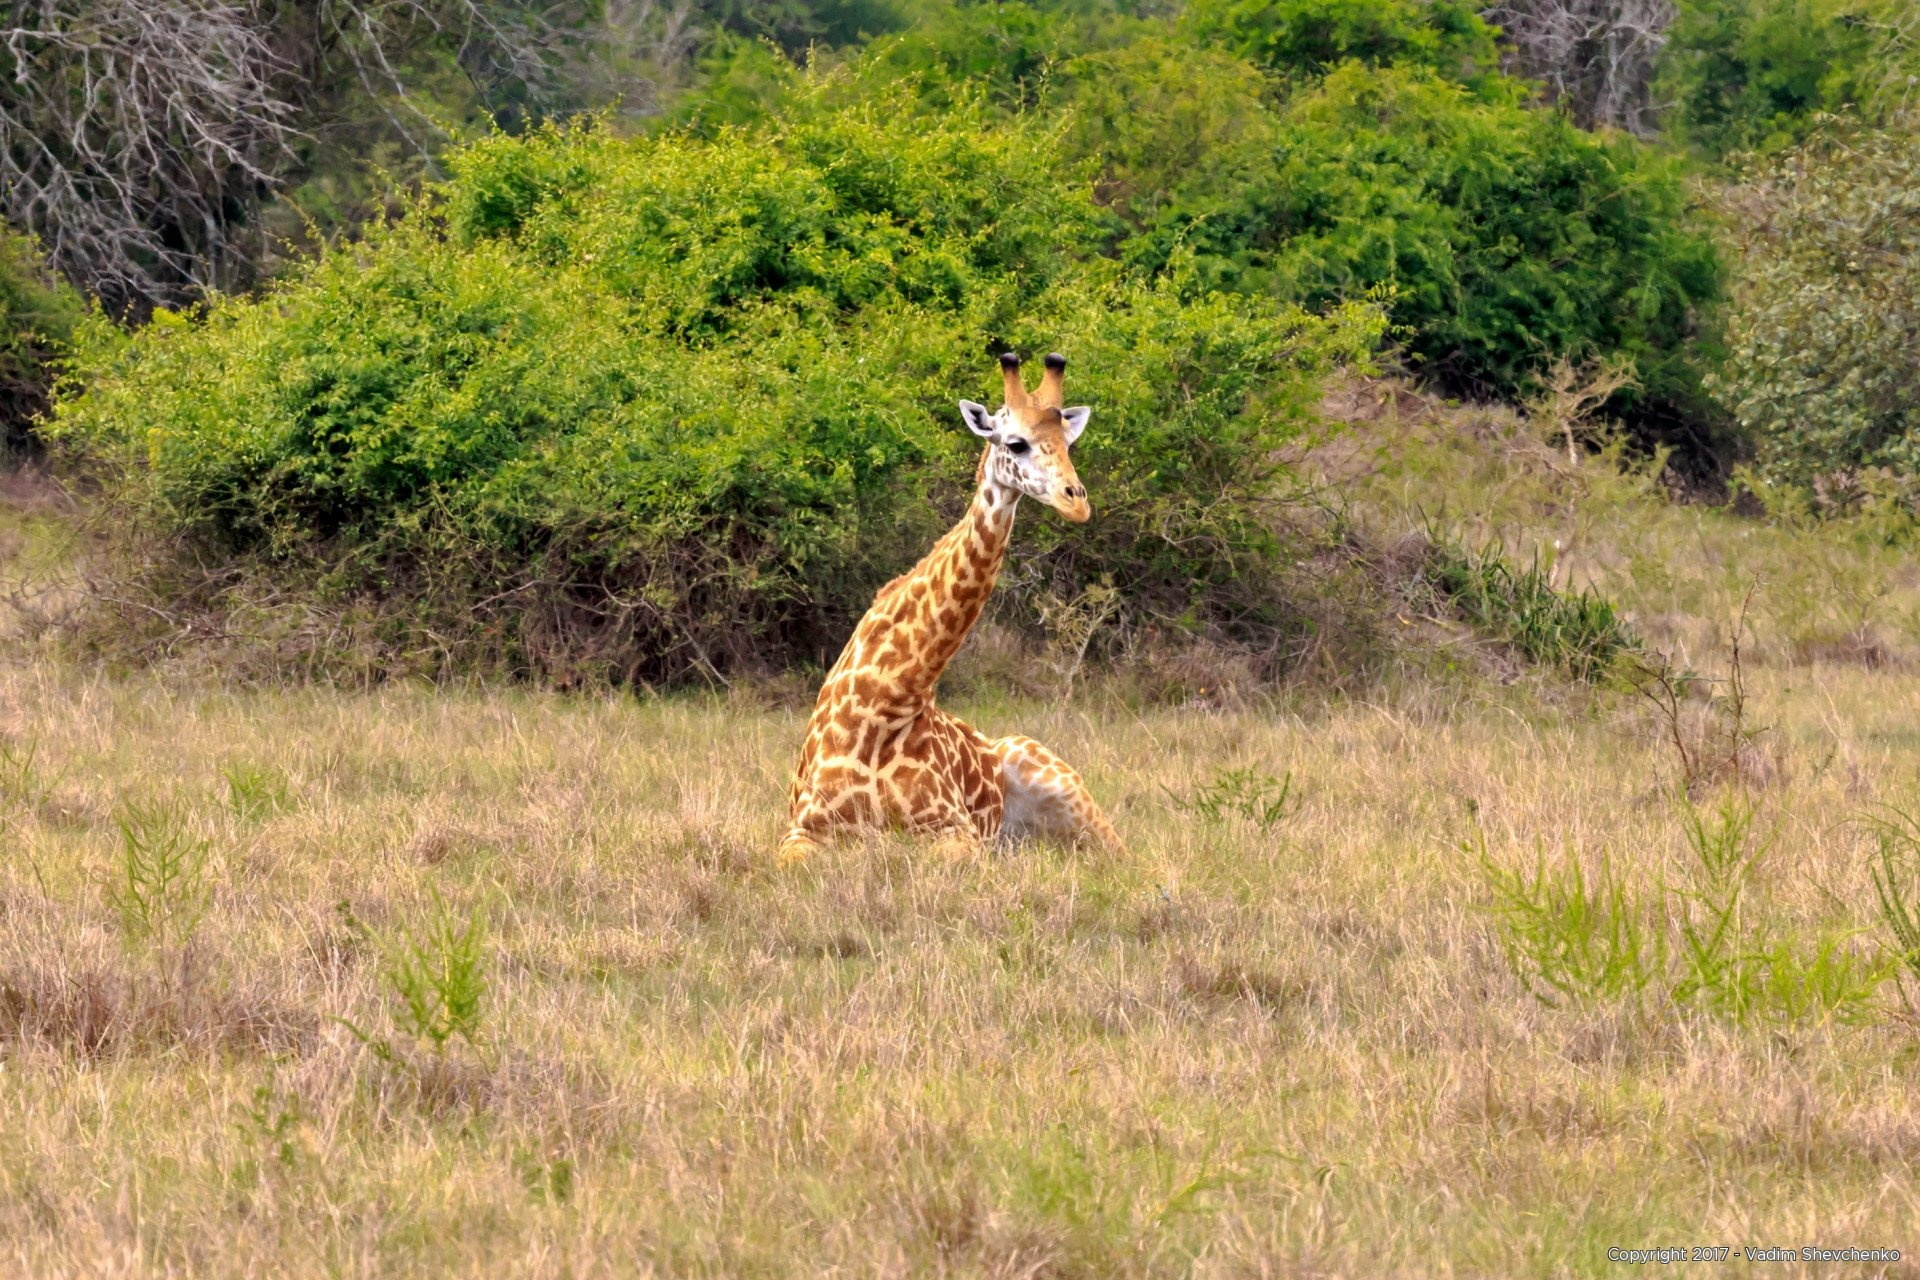giraffe: (779, 346, 1144, 879)
